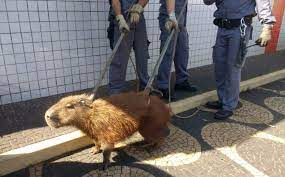capivara: (45, 91, 174, 168)
